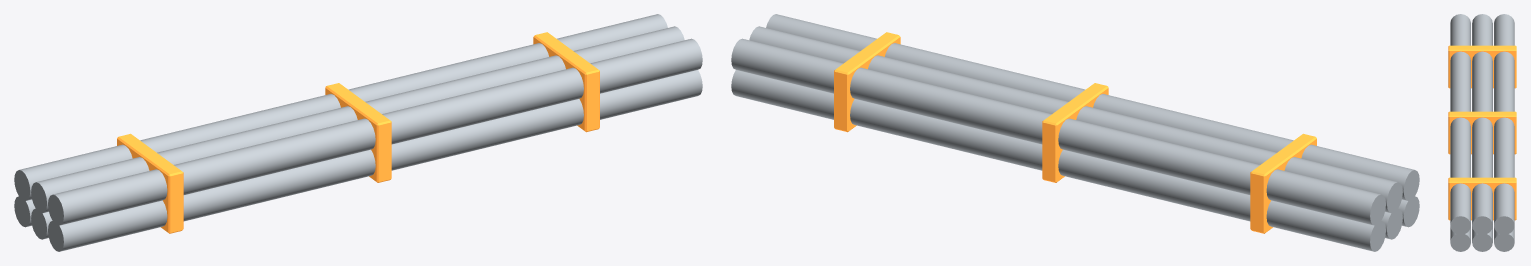
The model's file is steel-cargo-v4-high.glb.
3 views of the same model, side by side, from view 1: azimuth 30°, elevation 25°; view 2: azimuth 150°, elevation 25°; view 3: azimuth 270°, elevation 25° (orthographic). The views are drawn at different scales.
Parts seen in each view (by area): view 1: steel-cargo-v4-high.glb-v5_bright_steel, steel-cargo-v4-high.glb-v5_crane_orange; view 2: steel-cargo-v4-high.glb-v5_bright_steel, steel-cargo-v4-high.glb-v5_crane_orange; view 3: steel-cargo-v4-high.glb-v5_bright_steel, steel-cargo-v4-high.glb-v5_crane_orange.
Part boxes in pixels (x1,y1,x2,y2): steel-cargo-v4-high.glb-v5_bright_steel: (14, 14, 702, 251); steel-cargo-v4-high.glb-v5_crane_orange: (117, 32, 599, 233); steel-cargo-v4-high.glb-v5_bright_steel: (731, 14, 1419, 251); steel-cargo-v4-high.glb-v5_crane_orange: (834, 32, 1316, 233); steel-cargo-v4-high.glb-v5_bright_steel: (1450, 14, 1514, 251); steel-cargo-v4-high.glb-v5_crane_orange: (1448, 45, 1516, 220).
Size of the model in its own units: 9.2 by 0.82 by 1.32.
